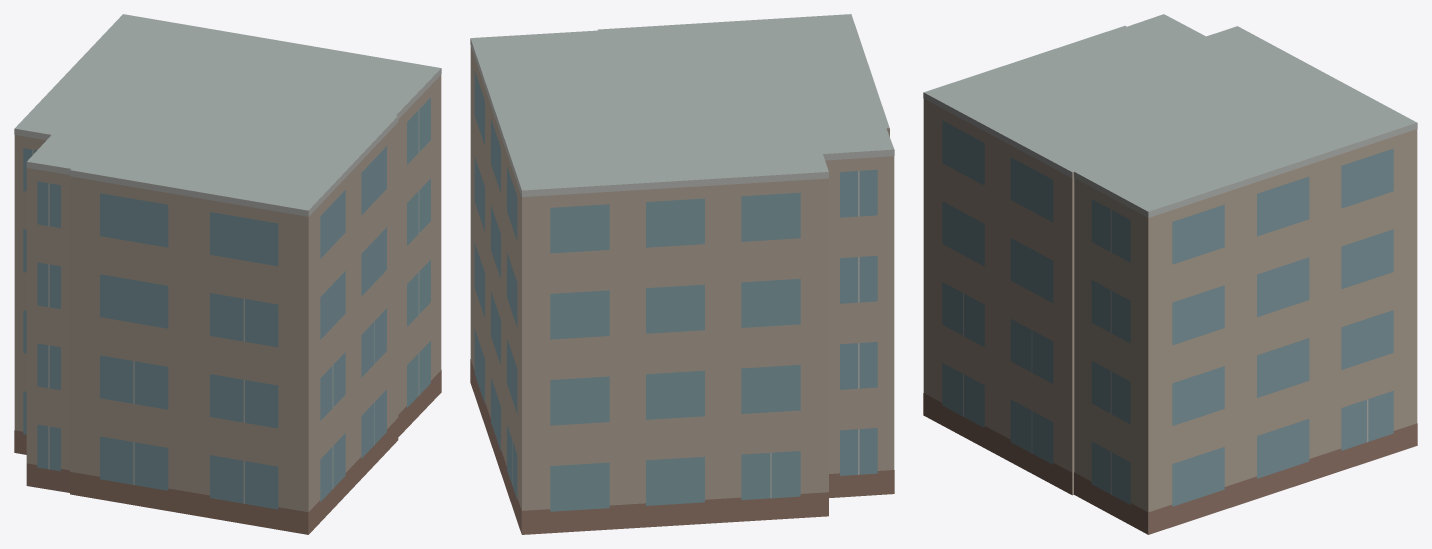
File: survey-upis-32745102.glb
3 views of the same model, side by side, from view 1: azimuth 30°, elevation 25°; view 2: azimuth 150°, elevation 25°; view 3: azimuth 270°, elevation 25° (orthographic). The views are drawn at different scales.
Parts seen in each view (by area): view 1: survey-upis-32745102.tmp; view 2: survey-upis-32745102.tmp; view 3: survey-upis-32745102.tmp.
Boxes of the visible parts, x1,y1,x2,y2 form: survey-upis-32745102.tmp: [14, 14, 441, 534]; survey-upis-32745102.tmp: [470, 14, 894, 534]; survey-upis-32745102.tmp: [923, 14, 1417, 534].
Bounding box in the file's own units: 16.82 × 12.8 × 17.74.
